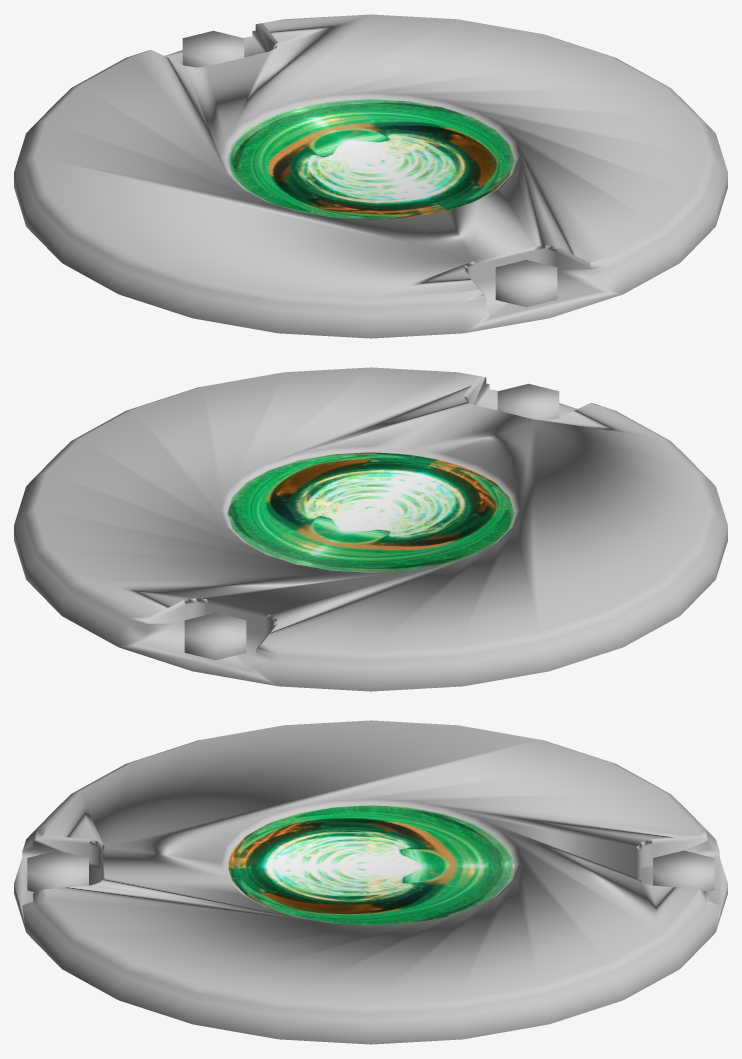
Rendered from startbahn_endfeuer_gruen.fbx.
The picture shows the model from 3 angles, top to bottom: view 1: azimuth 30°, elevation 25°; view 2: azimuth 150°, elevation 25°; view 3: azimuth 270°, elevation 25°; orthographic projection.
Parts seen in each view (by area): view 1: Mesh; view 2: Mesh; view 3: Mesh.
Part boxes in pixels (bbox=[...]): Mesh: bbox=[14, 14, 727, 338]; Mesh: bbox=[14, 367, 727, 691]; Mesh: bbox=[14, 720, 727, 1044].
Bounding box in the file's own units: 27.66 × 1.34 × 27.66.
